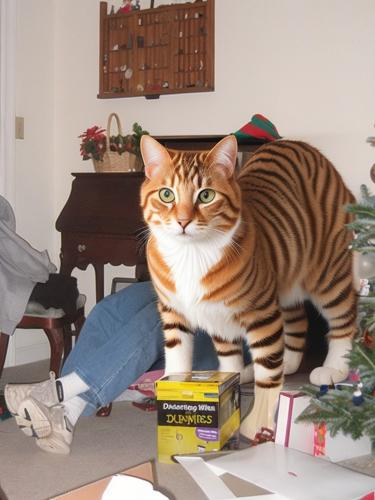cat: (135, 135, 359, 388)
person: (6, 114, 310, 454)
person/foot: (15, 396, 75, 453), (7, 378, 62, 418)
person/hand: (159, 204, 193, 238), (201, 209, 233, 244)
person/head: (223, 127, 273, 191)
